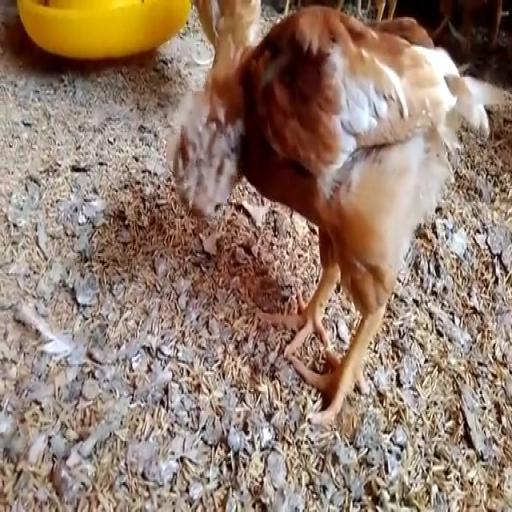disease: (176, 105, 244, 222)
